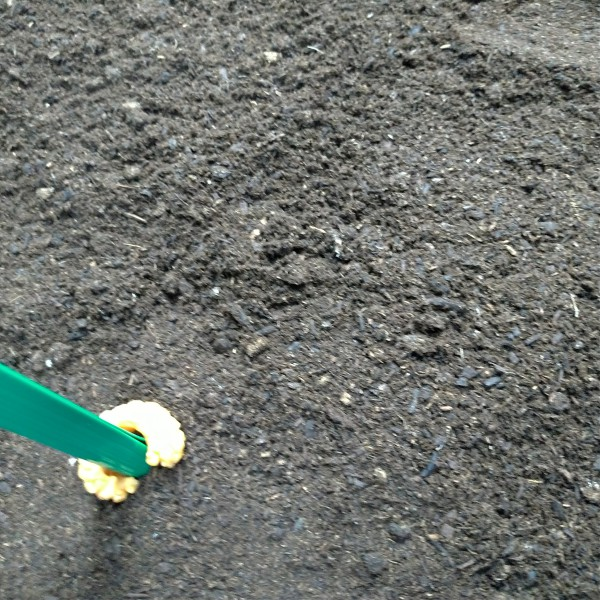eggs: (67, 396, 189, 502)
